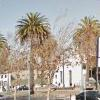Palm tree: (11, 4, 55, 89)
